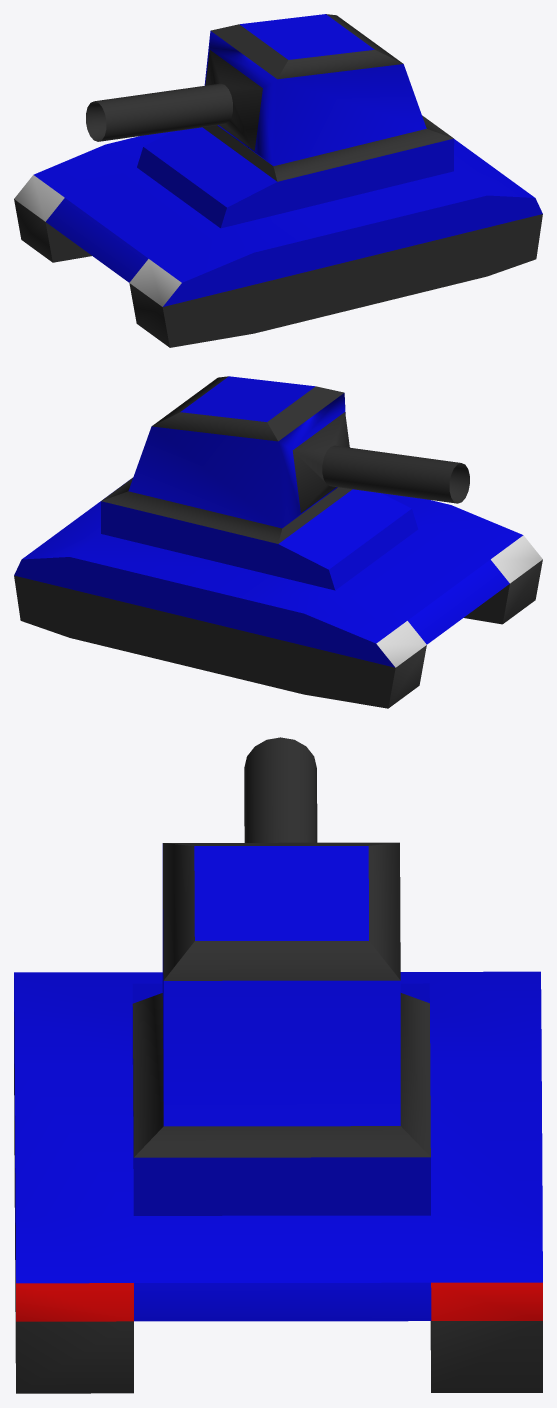
Rendered from WarHeavyBlue.fbx.
3 views of the same model, one above another, from view 1: azimuth 30°, elevation 25°; view 2: azimuth 150°, elevation 25°; view 3: azimuth 270°, elevation 25° (orthographic). The views are drawn at different scales.
Visible parts, largest first — view 1: pCylinder2; view 2: pCylinder2; view 3: pCylinder2.
Boxes of the visible parts, box(x1,y1,x2,y2) form: pCylinder2: box(14, 14, 542, 347); pCylinder2: box(14, 376, 542, 708); pCylinder2: box(14, 737, 542, 1393).
Size of the model in its own units: 7.48 by 4.05 by 5.04.
